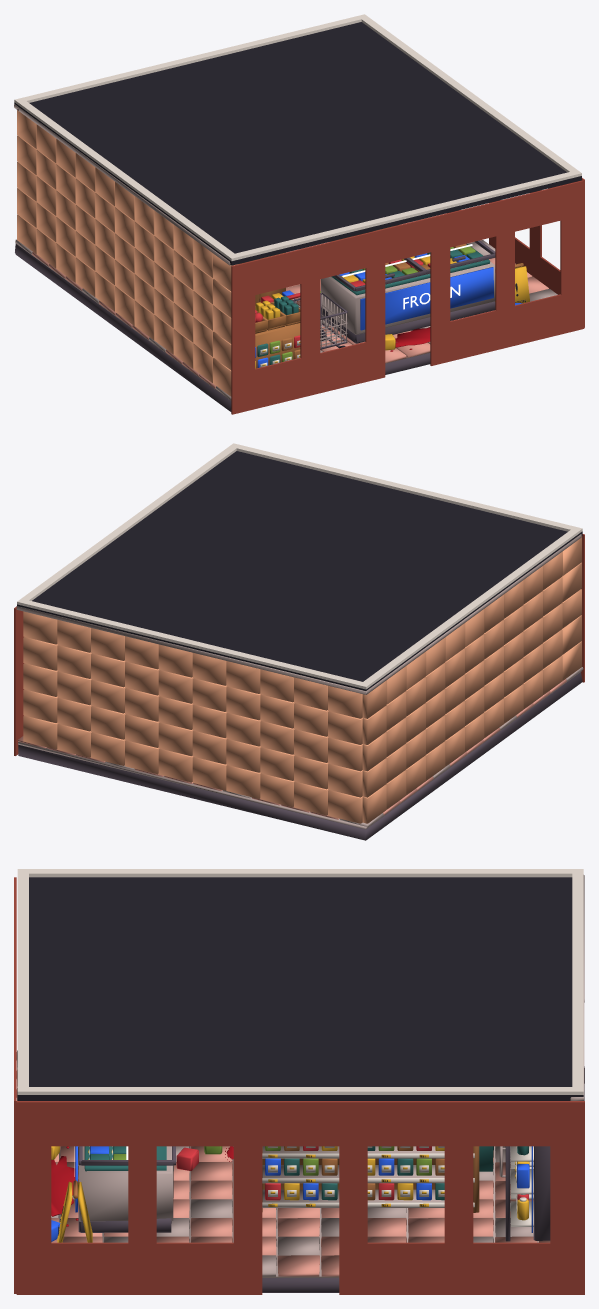
The picture shows the model from 3 angles, top to bottom: view 1: azimuth 30°, elevation 25°; view 2: azimuth 150°, elevation 25°; view 3: azimuth 270°, elevation 25°; orthographic projection. The views are drawn at different scales.
Parts seen in each view (by area): view 1: roof_pal_uiDark, interior, roof_pal_brick, roof_pal_picketWhite, door_freezer_00_mesh; view 2: interior, roof_pal_uiDark, roof_pal_picketWhite, roof_pal_brick; view 3: roof_pal_uiDark, roof_pal_brick, interior, roof_pal_picketWhite, door_fridge_05_mesh, door_freezer_01_mesh.
Boxes of the visible parts, x1=… form: roof_pal_uiDark: x1=14, y1=22, x2=581, y2=265; interior: x1=14, y1=104, x2=557, y2=411; roof_pal_brick: x1=231, y1=178, x2=584, y2=414; roof_pal_picketWhite: x1=14, y1=14, x2=581, y2=261; door_freezer_00_mesh: x1=333, y1=258, x2=426, y2=291; interior: x1=16, y1=534, x2=583, y2=840; roof_pal_uiDark: x1=17, y1=451, x2=582, y2=690; roof_pal_picketWhite: x1=17, y1=443, x2=582, y2=689; roof_pal_brick: x1=14, y1=534, x2=584, y2=755; roof_pal_uiDark: x1=17, y1=877, x2=583, y2=1100; roof_pal_brick: x1=14, y1=877, x2=584, y2=1294; interior: x1=16, y1=875, x2=584, y2=1292; roof_pal_picketWhite: x1=17, y1=869, x2=583, y2=1094; door_fridge_05_mesh: x1=499, y1=1146, x2=510, y2=1241; door_freezer_01_mesh: x1=78, y1=1146, x2=175, y2=1165.
Bounding box in the file's own units: 8.44 × 3.53 × 9.06.
